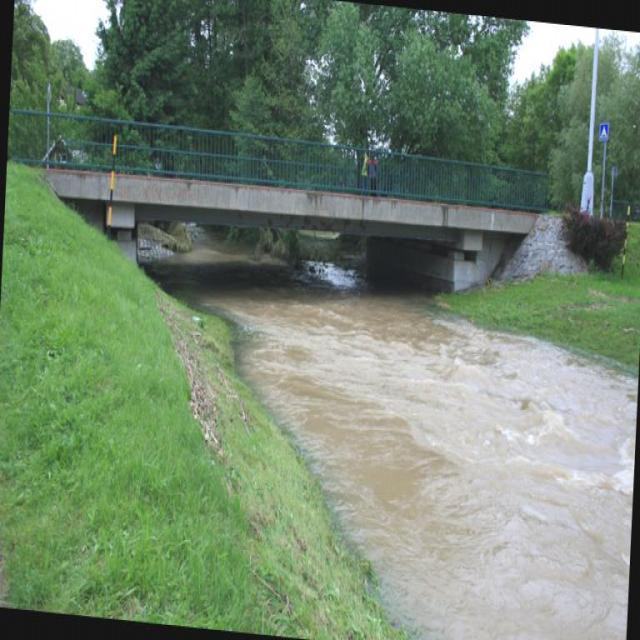flood: (150, 240, 639, 639)
